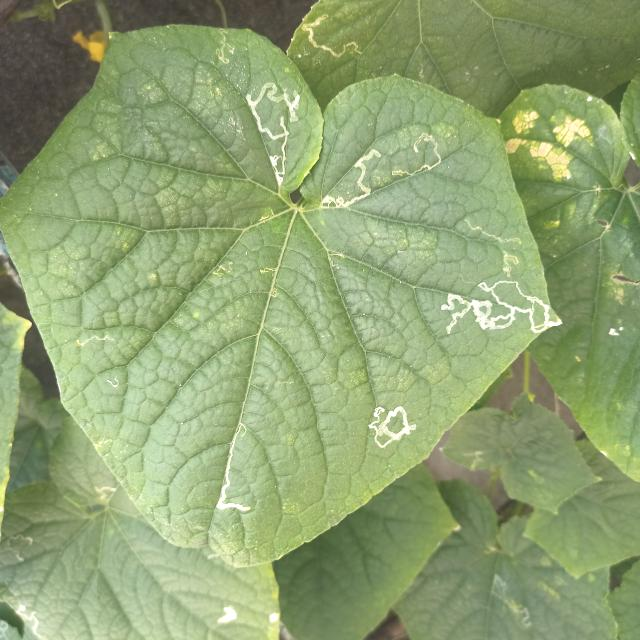disease_cucumber: (504, 109, 591, 180)
